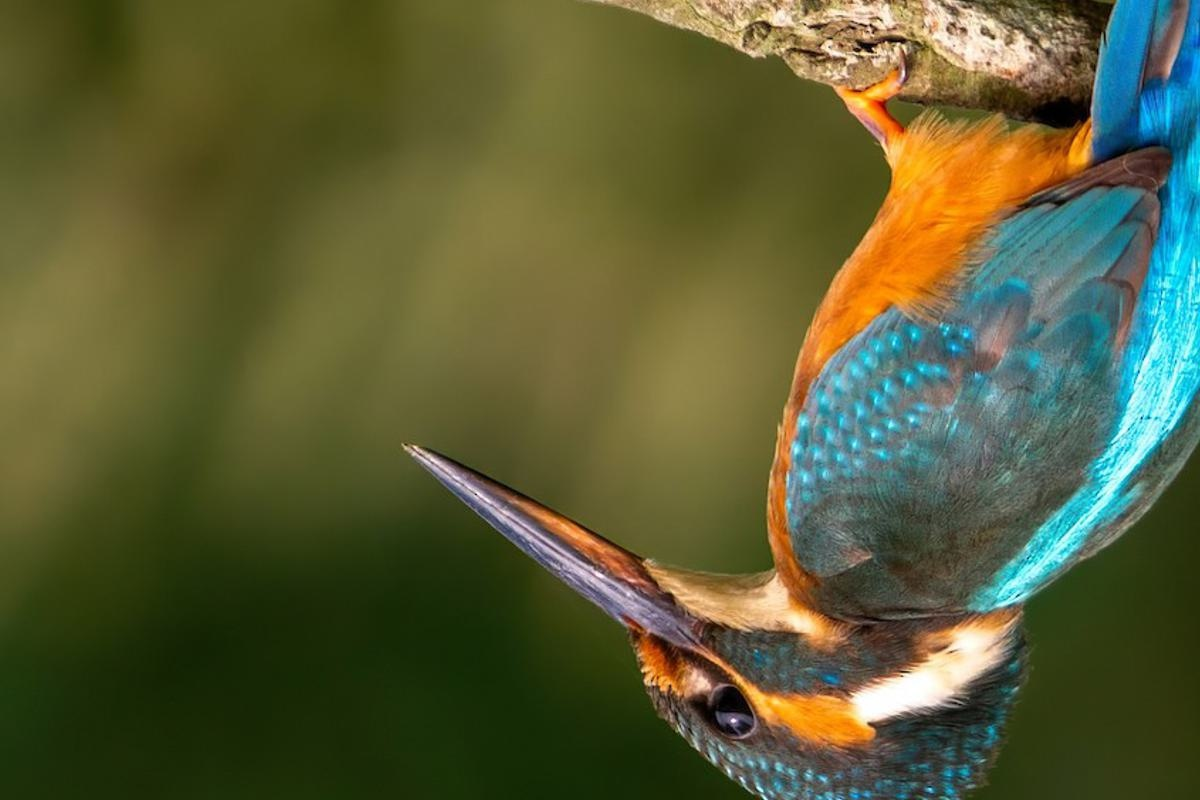kingfisher: (381, 72, 1200, 800)
